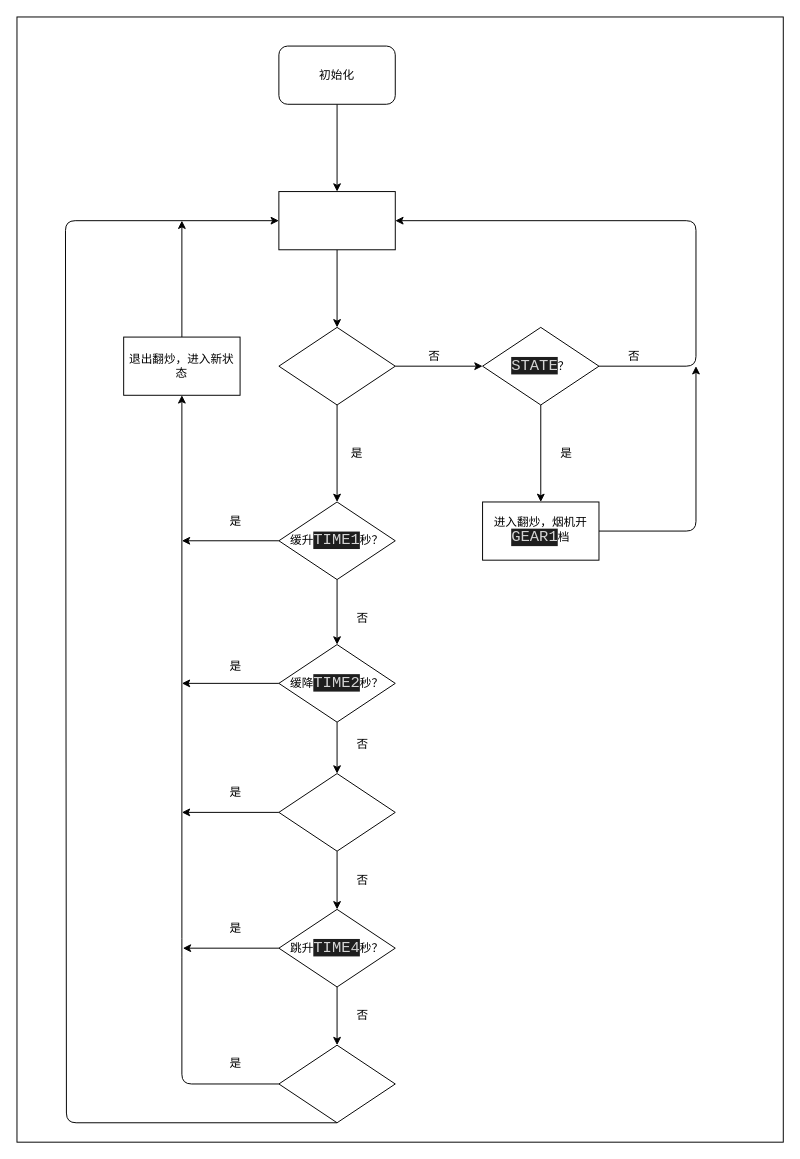
The diagram is 800 pixels wide and 1159 high, and some of its shapes have lost their labels. Here are the shapes that lost their labels. From the top down, the box of each, then its label:
(278, 191, 395, 250): 获取温度
(278, 326, 395, 405): 翻炒状态？
(278, 773, 395, 851): 平缓 TIME3 秒？
(278, 1044, 395, 1123): 跳降 TIME5 秒？
